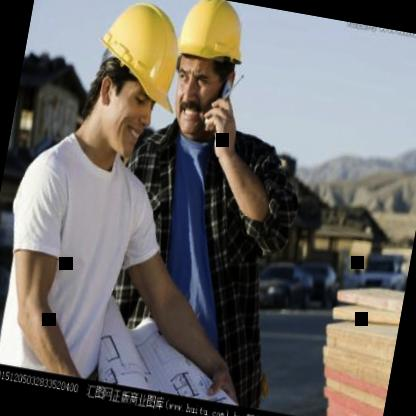helmet: (67, 0, 191, 157), (160, 0, 258, 154)
